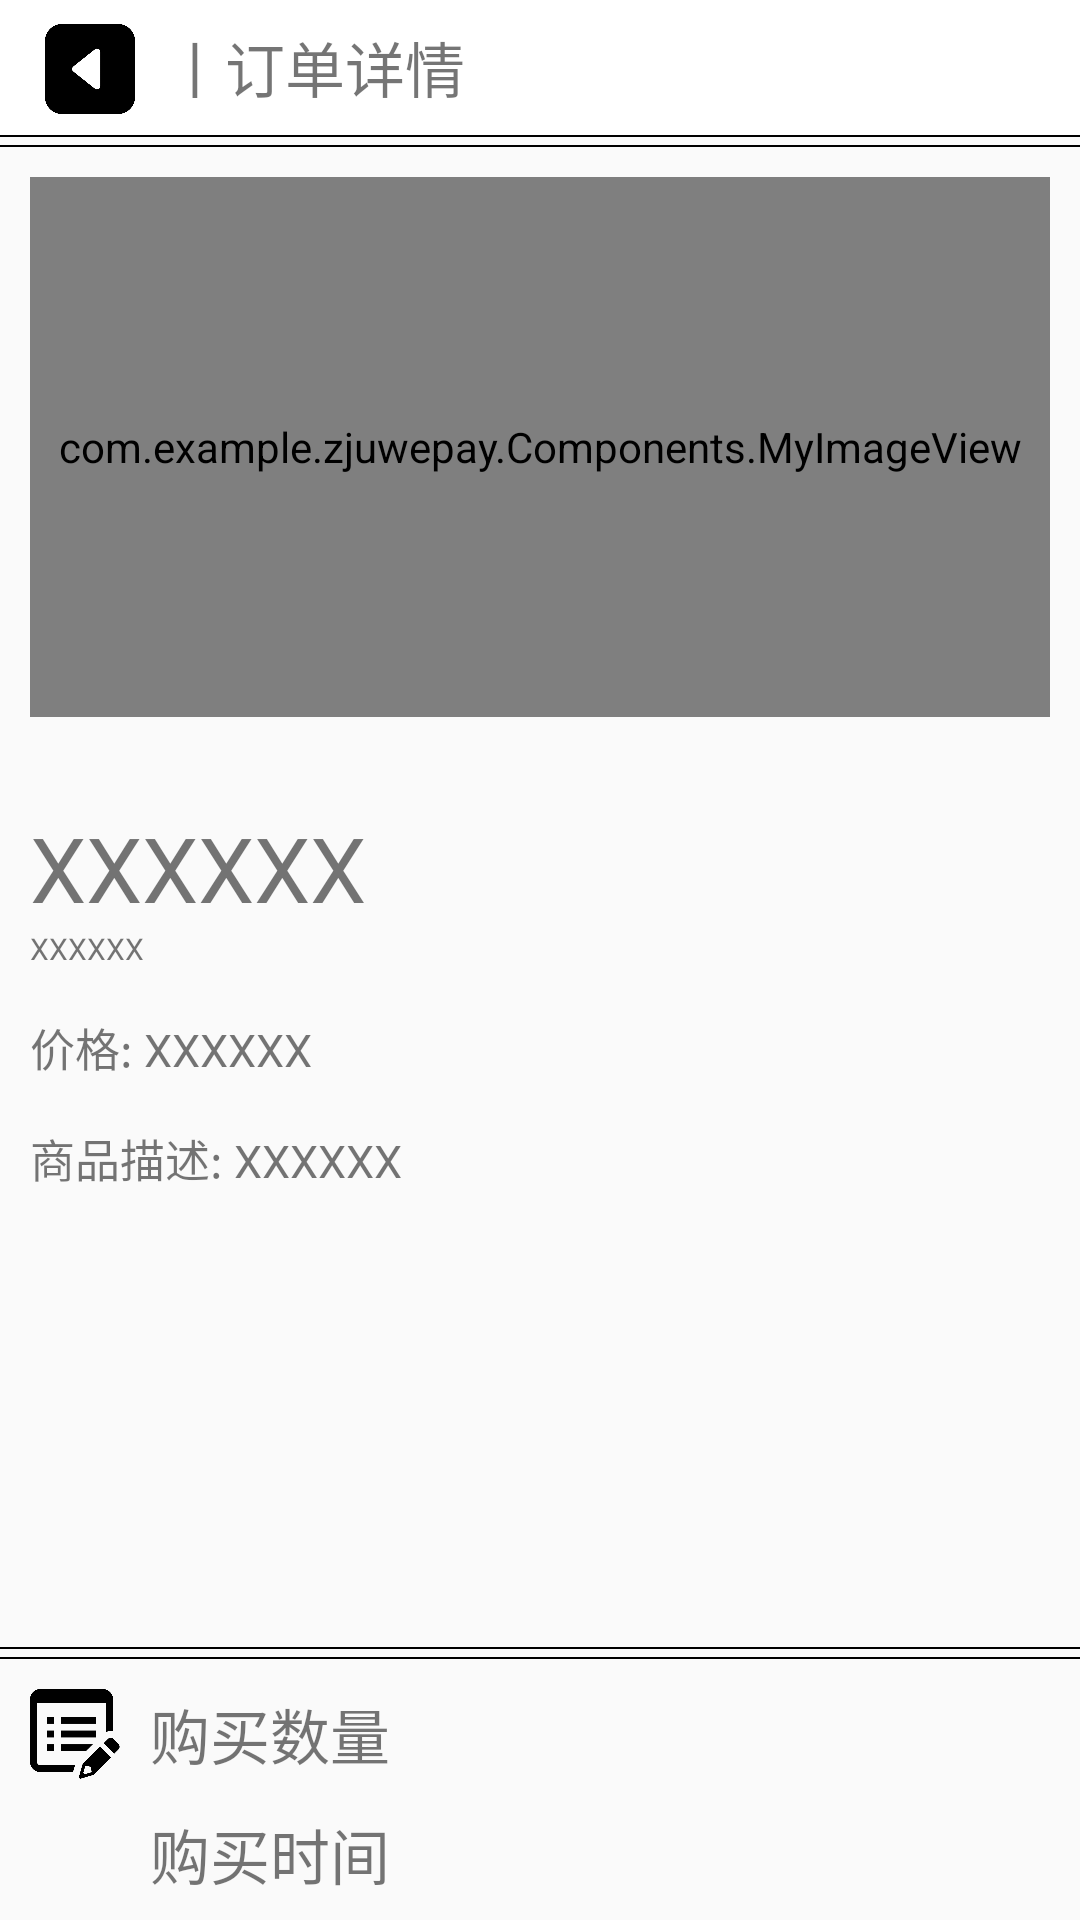

Icon bounding boxes for this 1080w x 1920h phone screenshot, format (x1, y1, x2, y2):
back: (45, 24, 135, 114)
edit talk: (30, 1689, 120, 1779)
